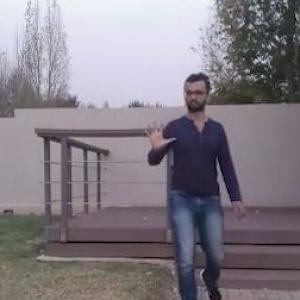follow_hand: (142, 114, 178, 155)
